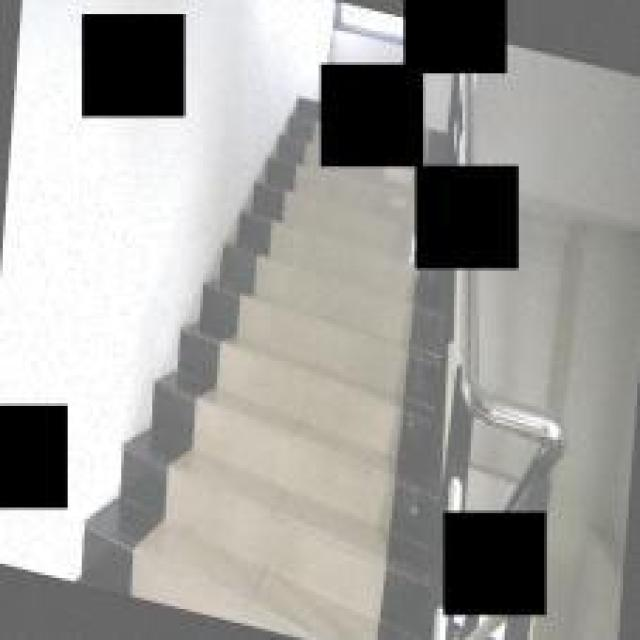upstair: (184, 283, 435, 630)
